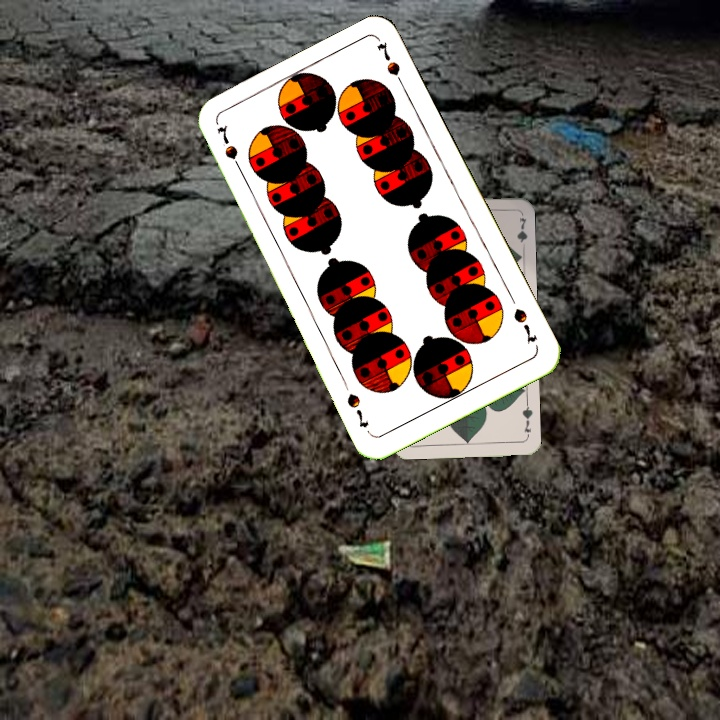G7: (518, 399, 535, 440)
S7: (213, 121, 246, 177), (509, 304, 540, 346)
